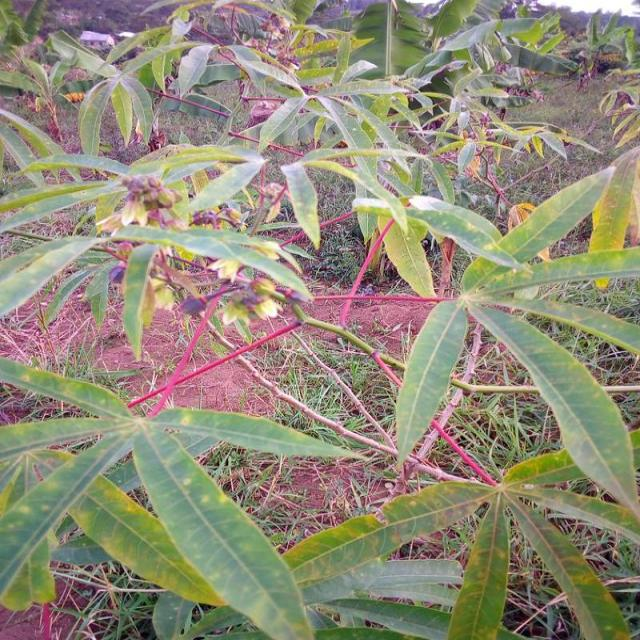cassava leaf: (1, 1, 638, 638), (130, 415, 314, 638), (466, 298, 638, 520), (394, 298, 468, 468)
